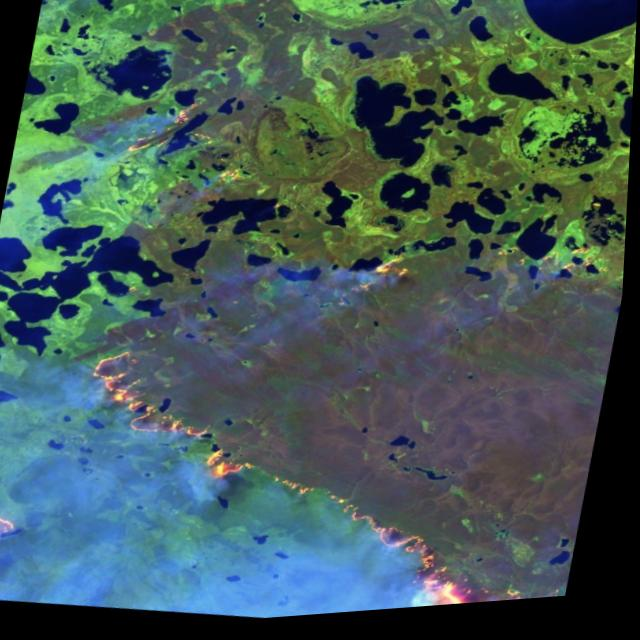fire: (0, 296, 614, 640), (103, 83, 231, 179), (481, 235, 624, 303), (317, 240, 435, 322)
